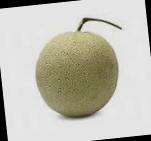Melon Ripe: (29, 11, 132, 121)
